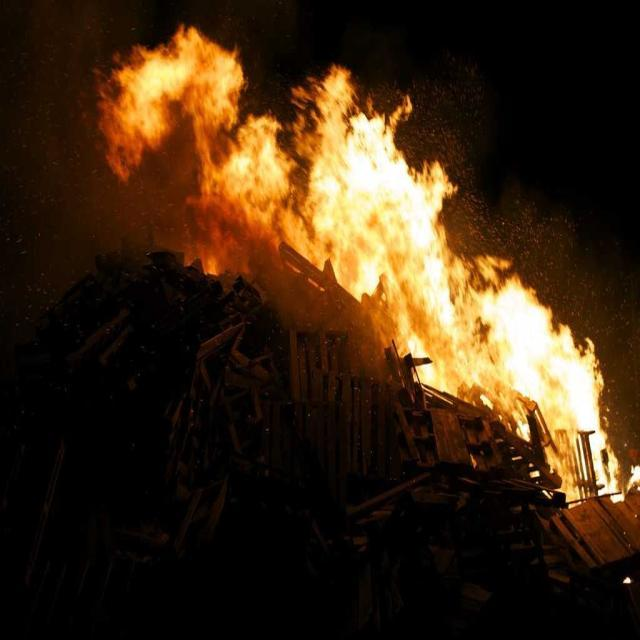Fire: (311, 78, 467, 342), (113, 33, 295, 232), (478, 265, 614, 474)
